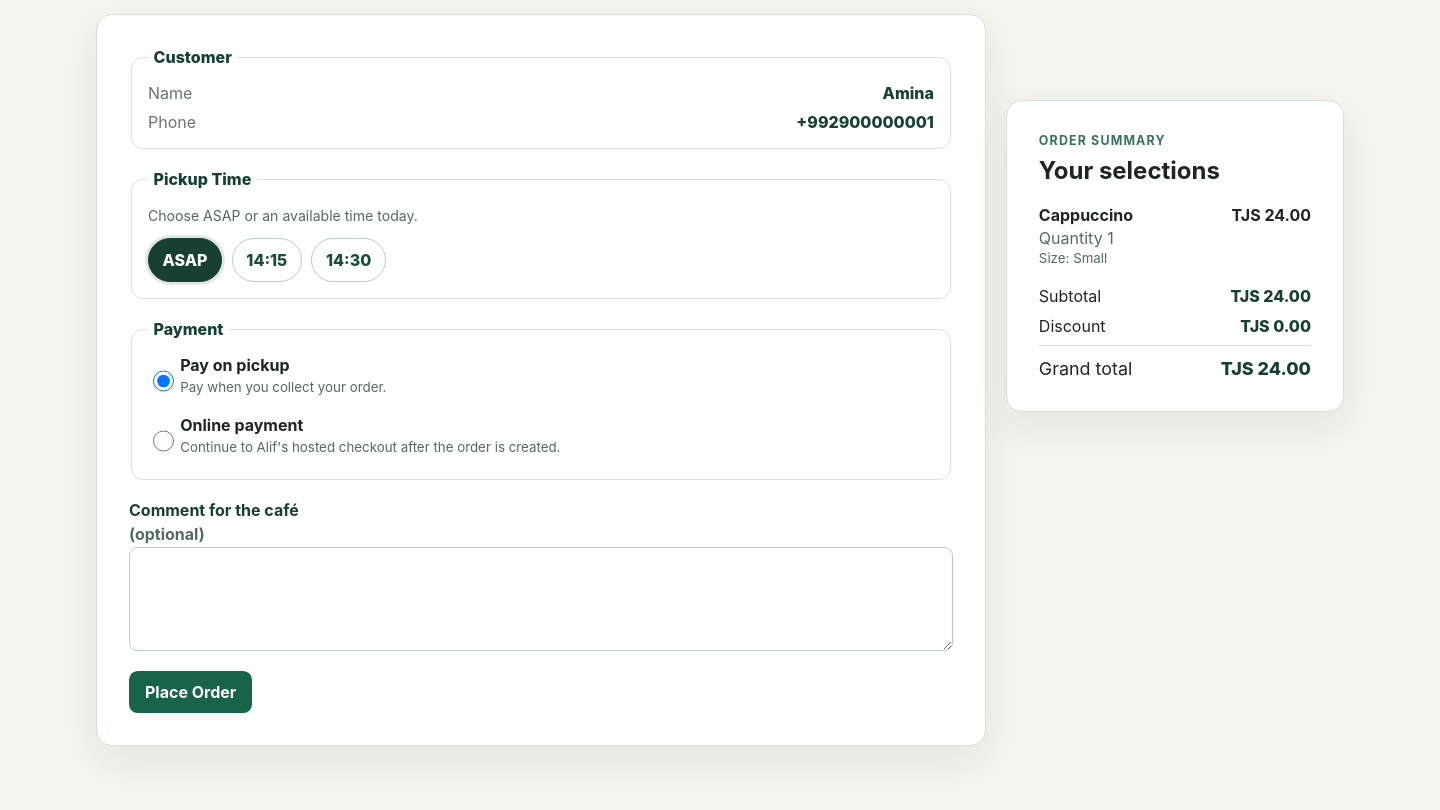
it: customer checkout › keeps the cart intact and shows server validation failures for retry
(page scrolled)
Click the button "Place Order": (191, 692) [129, 671, 252, 713]
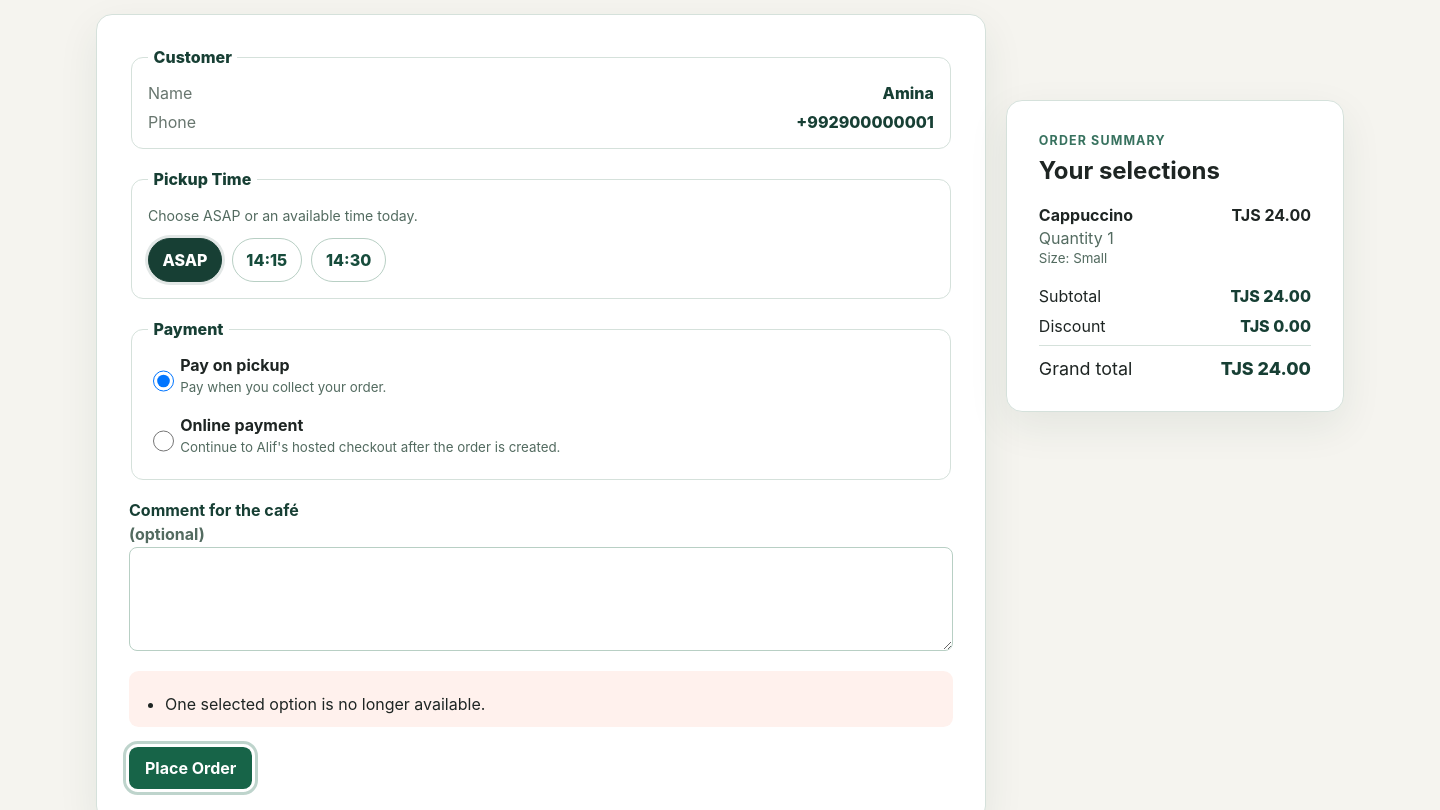
Expected: the button "Place Order" is enabled, [129, 747, 252, 789]
Expected: the list item "One selected option is no longer available." is shown, [165, 694, 485, 714]
